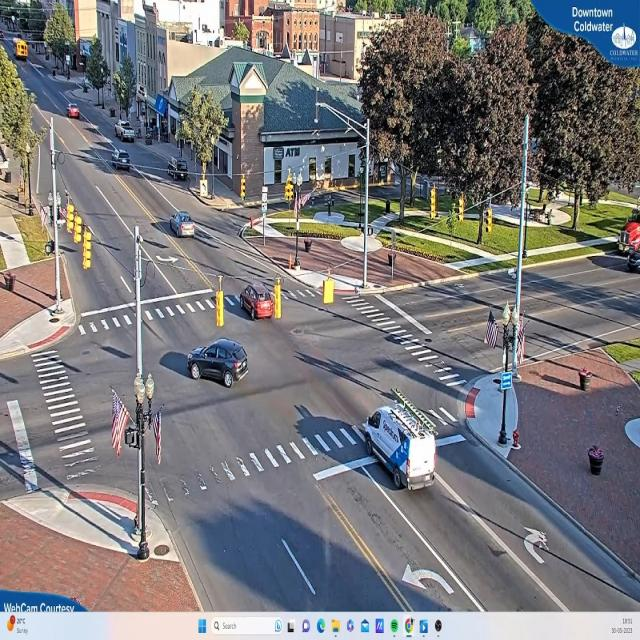car: (188, 341, 250, 388), (240, 275, 277, 335), (117, 122, 137, 144)
truck: (363, 403, 438, 493)
